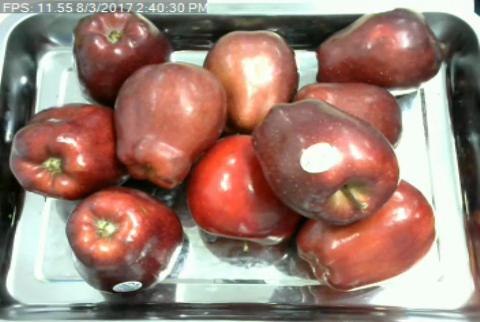Apple: (252, 97, 403, 228), (292, 174, 439, 293), (107, 60, 231, 190), (181, 131, 307, 248), (63, 188, 187, 296), (8, 100, 134, 201), (312, 5, 445, 97), (200, 26, 301, 135), (69, 5, 174, 109)
